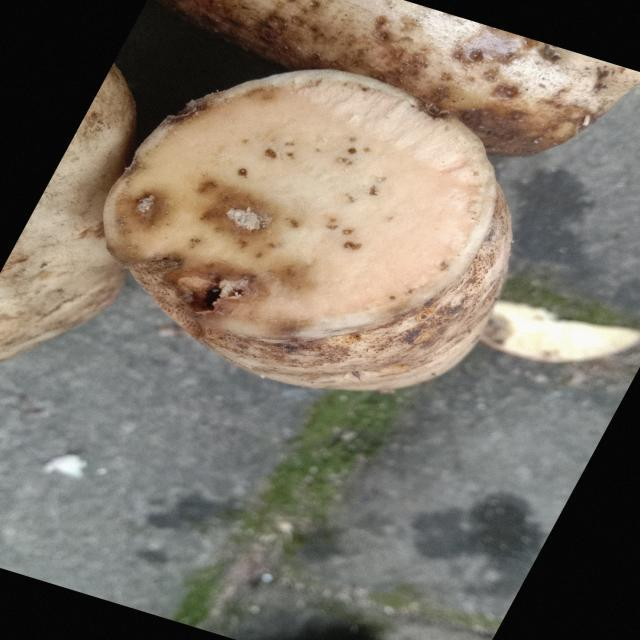Sick Sweet Potato_Tuber Rot: (103, 70, 498, 340)
